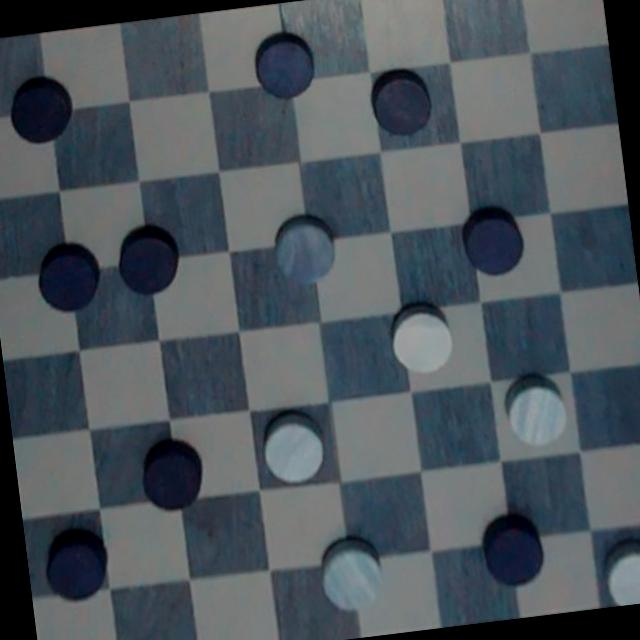BOARD: (0, 0, 640, 640)
black: (2, 72, 80, 156), (242, 26, 323, 106), (112, 216, 187, 302), (456, 200, 530, 286), (360, 66, 440, 144), (134, 433, 208, 517), (478, 509, 551, 592), (32, 235, 104, 319), (39, 524, 114, 604)
white: (314, 527, 398, 620), (270, 205, 343, 292), (255, 404, 330, 488), (502, 365, 572, 453), (384, 300, 461, 380), (595, 532, 640, 608)
